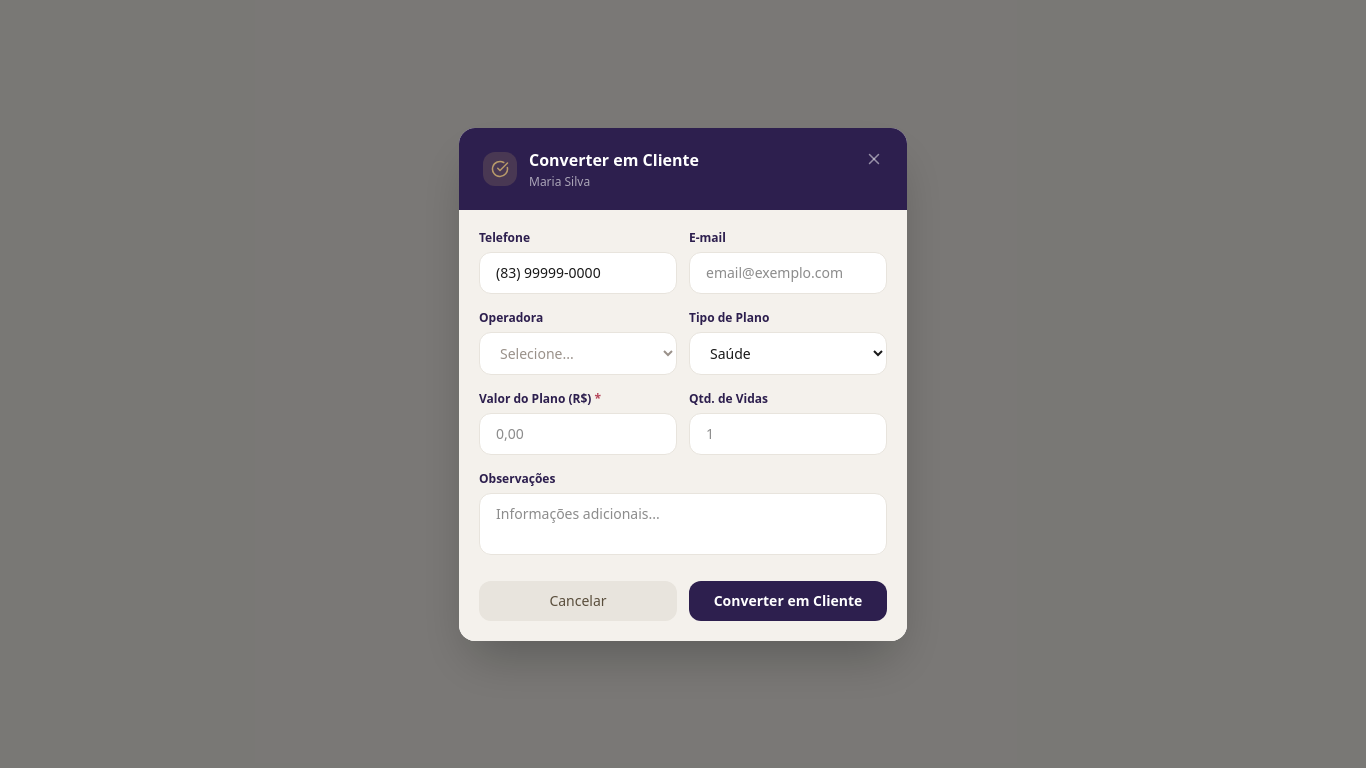
it: ConversaoModal › shows error when valor is missing
The width and height of the screenshot is (1366, 768).
Click the button "Converter em Cliente". click: (788,600)
box: [689,580,887,620]
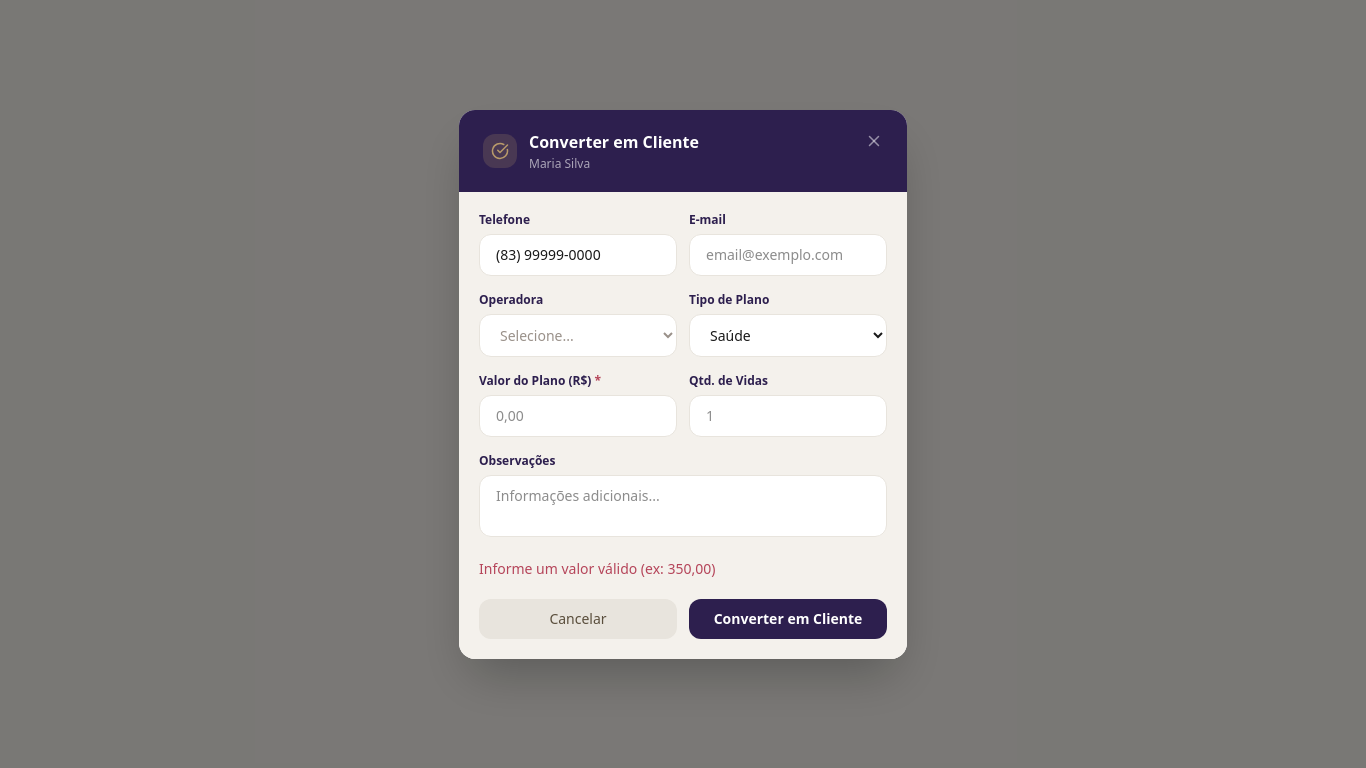
Check: the text "Informe um valor válido (ex: 350,00)" is shown, box [479,558,716,578]
